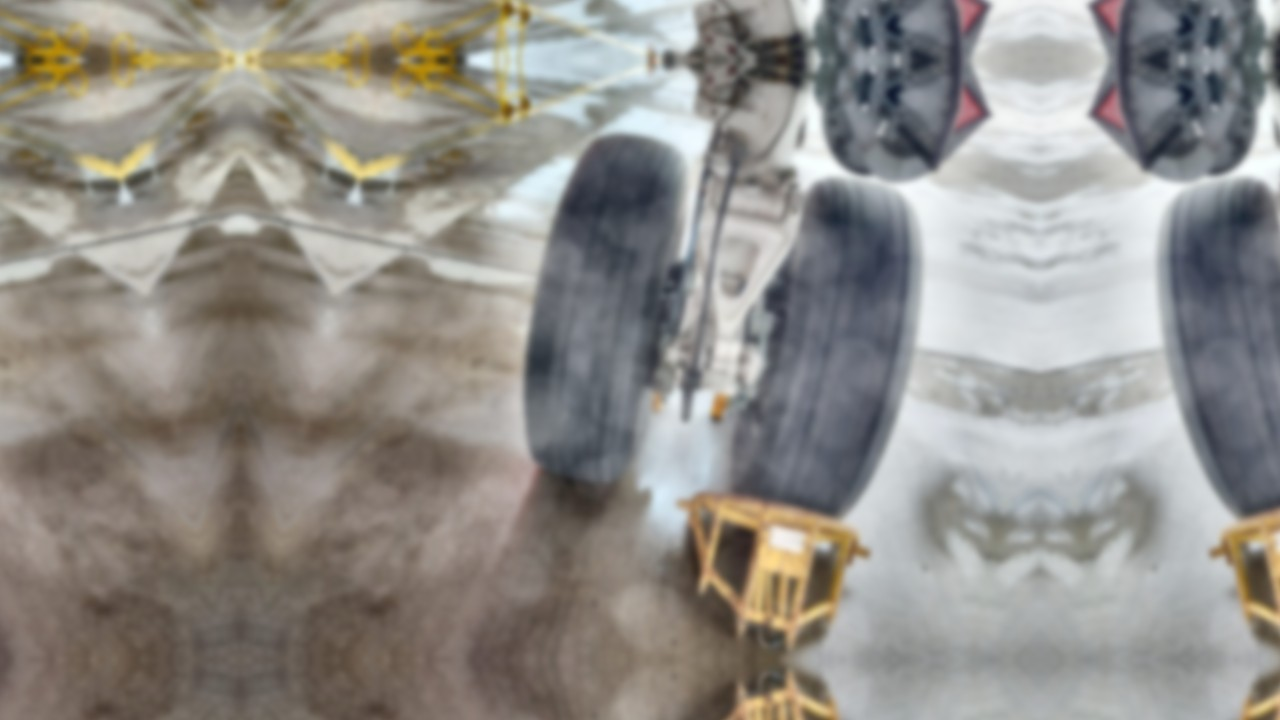chock: (648, 477, 877, 660), (1203, 477, 1280, 660), (648, 660, 877, 720), (1203, 660, 1280, 720)
wheel: (493, 117, 710, 500), (723, 164, 947, 523), (1133, 164, 1280, 523)
